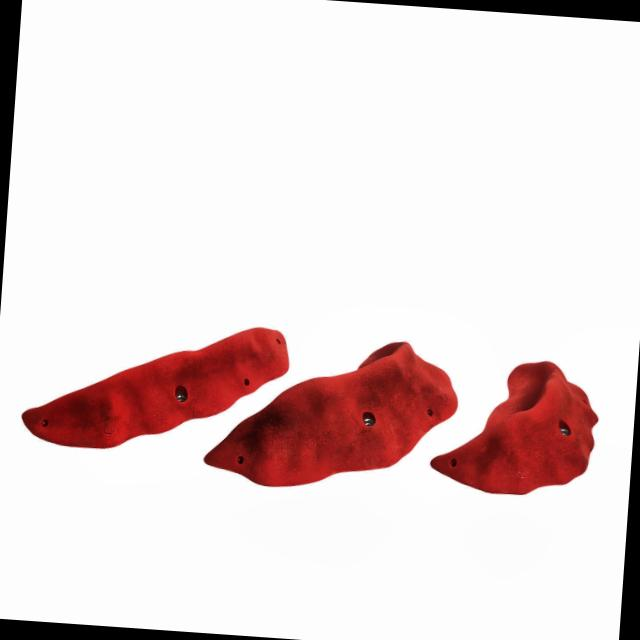Hold: (202, 324, 465, 496), (13, 306, 290, 454), (438, 346, 604, 502)
